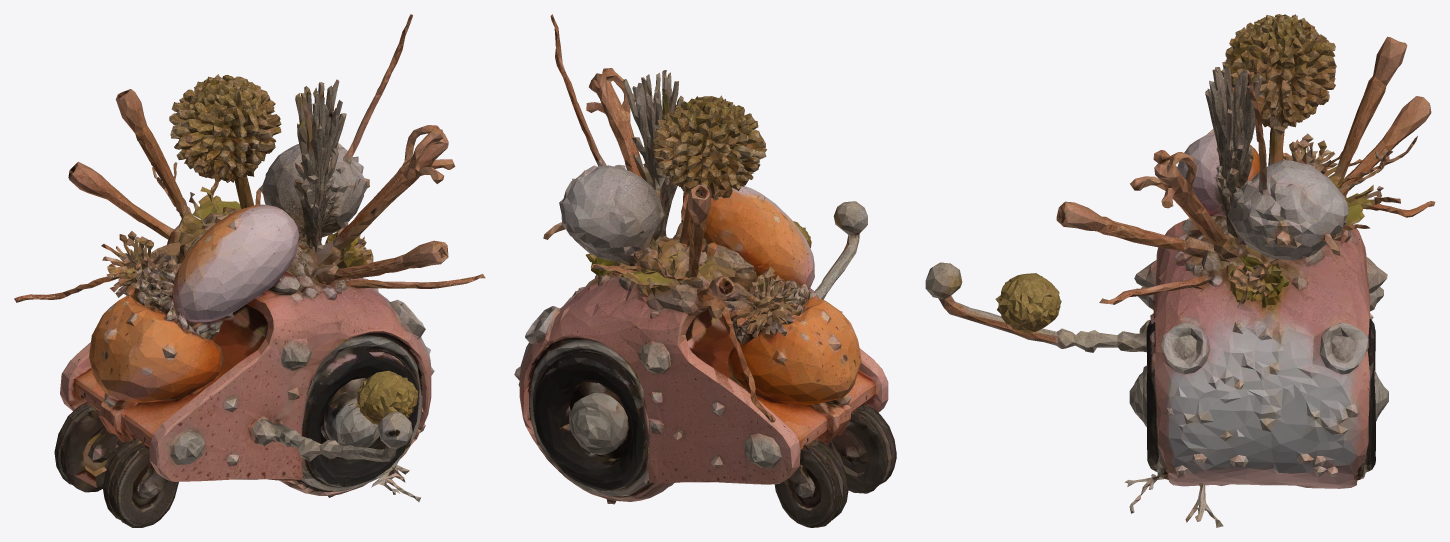
File: wing (350).glb
3 renders of one model, left to right at view 1: azimuth 30°, elevation 25°; view 2: azimuth 150°, elevation 25°; view 3: azimuth 270°, elevation 25°, orthographic. The views are drawn at different scales.
Visible parts, largest first — view 1: Hy21_Mesh.obj; view 2: Hy21_Mesh.obj; view 3: Hy21_Mesh.obj.
Part boxes in pixels (box(x1,y1,x2,y2)): Hy21_Mesh.obj: box(14, 14, 485, 527); Hy21_Mesh.obj: box(514, 14, 896, 527); Hy21_Mesh.obj: box(925, 14, 1435, 527).
Size of the model in its own units: 1.3 by 1.66 by 1.63.
1 material, 1 textured.
